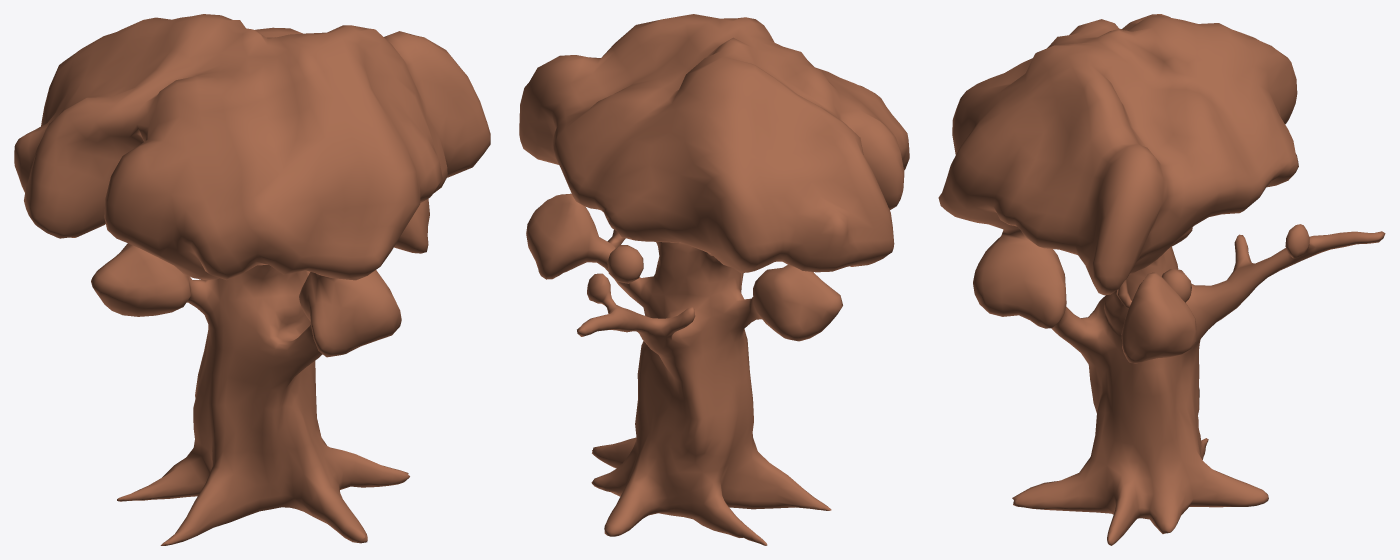
The model's file is tree.fbx.
3 renders of one model, left to right at view 1: azimuth 30°, elevation 25°; view 2: azimuth 150°, elevation 25°; view 3: azimuth 270°, elevation 25°, orthographic. The views are drawn at different scales.
Parts seen in each view (by area): view 1: PolySphere2; view 2: PolySphere2; view 3: PolySphere2.
Boxes of the visible parts, box(x1,y1,x2,y2) form: PolySphere2: box(14, 14, 490, 545); PolySphere2: box(519, 14, 909, 545); PolySphere2: box(938, 14, 1385, 545).
Size of the model in its own units: 788 by 859 by 773.
